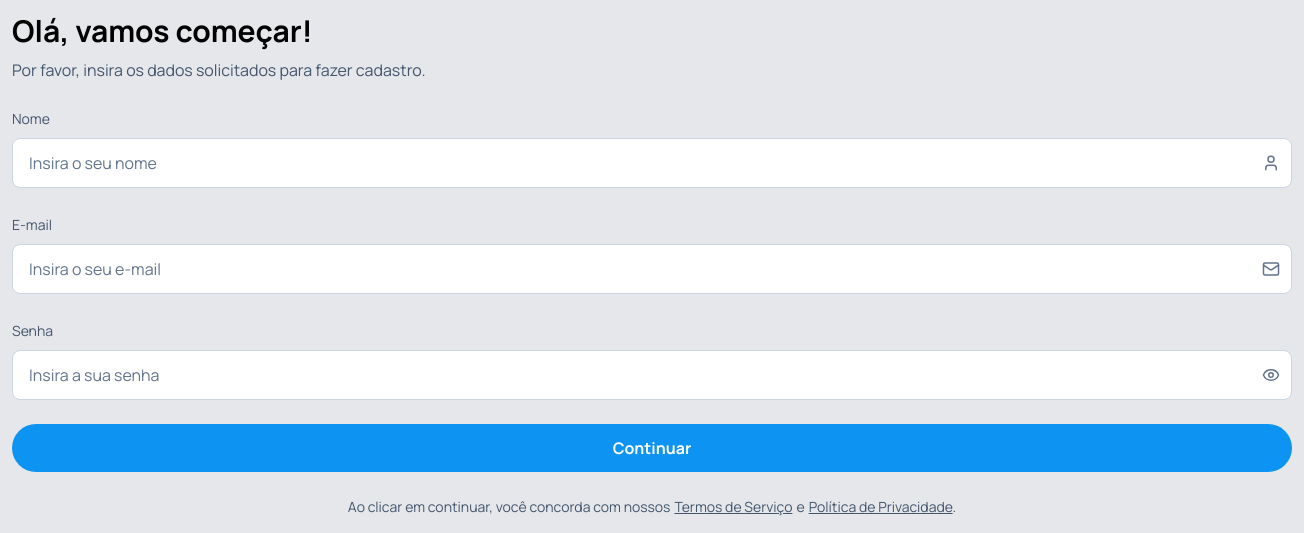
Scenario: RegisterForm Component › should show loading state and disable button while registering
Type "John" into the field with placeholder "Insira o seu nome". click: (652, 162)
box: [12,138,1292,188]
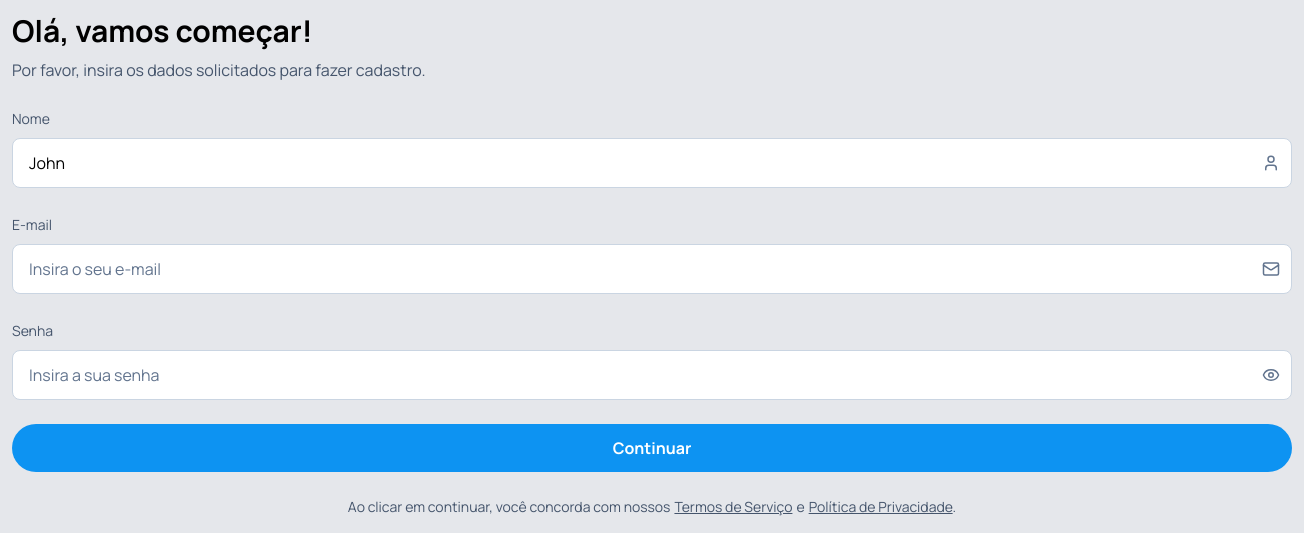
Type "john@example.com" into the field with placeholder "Insira o seu e-mail". click: (652, 268)
box: [12,244,1292,294]
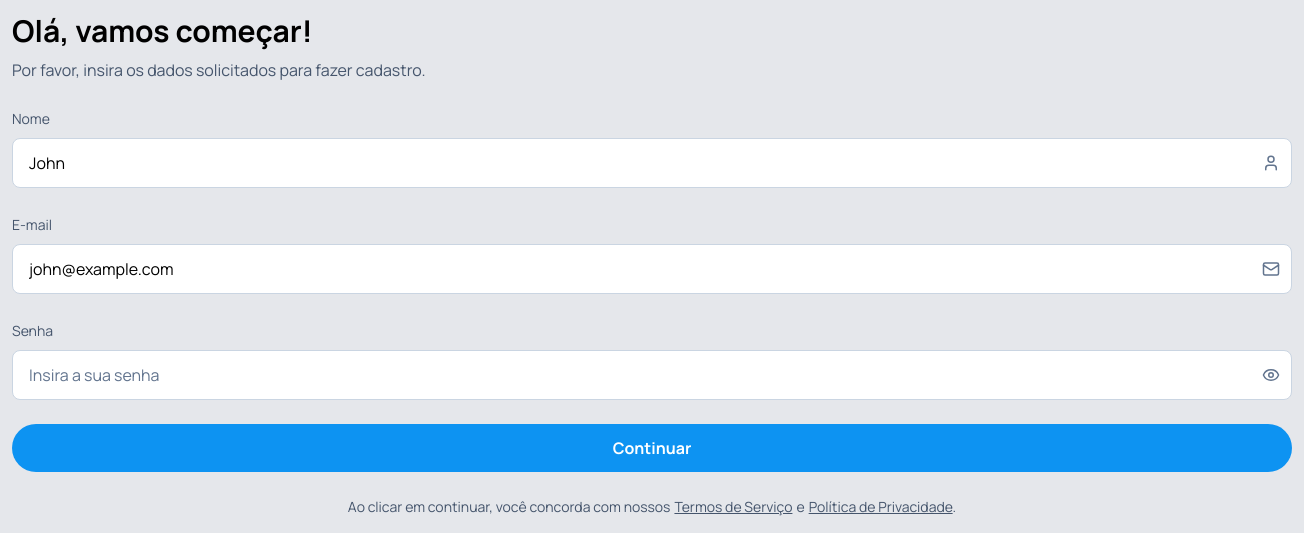
Type "password123" into the password field with placeholder "Insira a sua senha". click: (652, 374)
box: [12,350,1292,400]
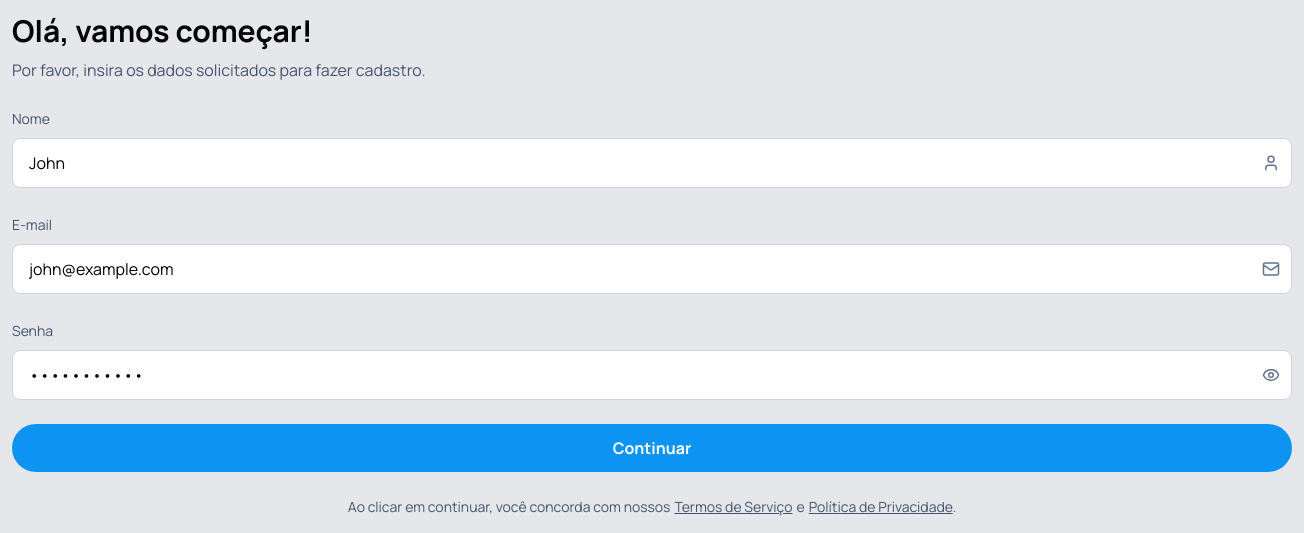
Click the button "Continuar". click: (652, 448)
box: [12,424,1292,472]
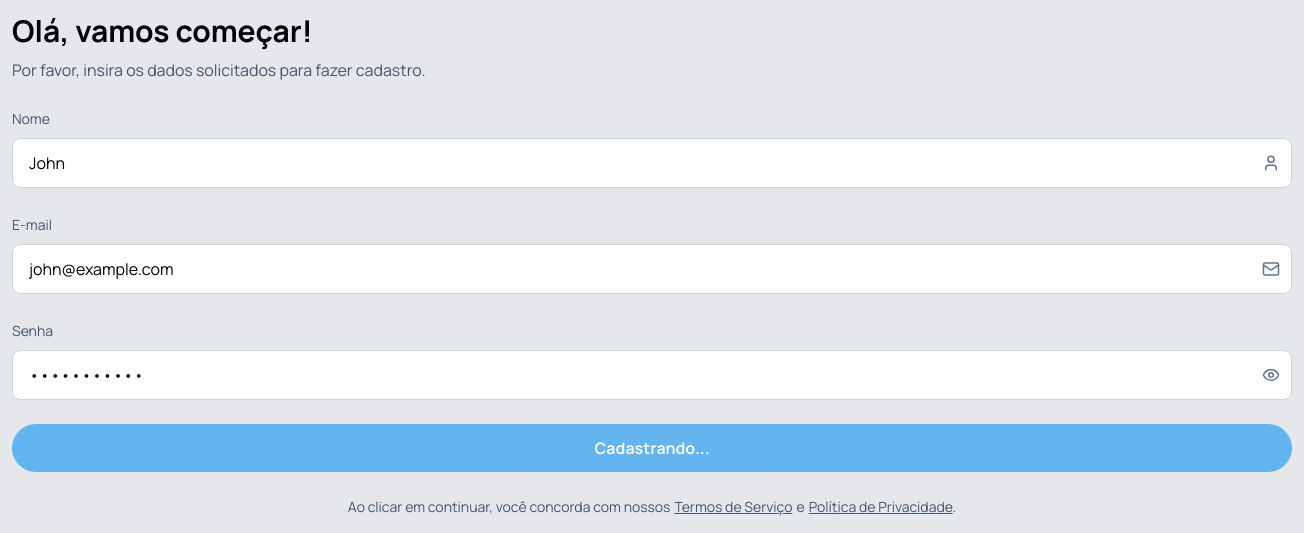
Now the button is disabled, box [12,424,1292,472]
